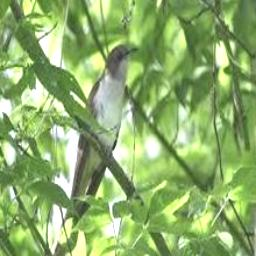Cuckoo: (43, 44, 137, 256)
